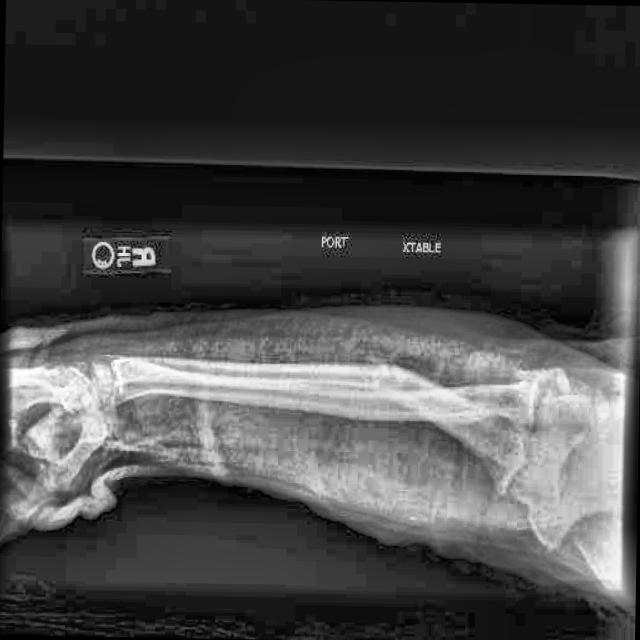forearm fracture: (352, 342, 433, 415)
